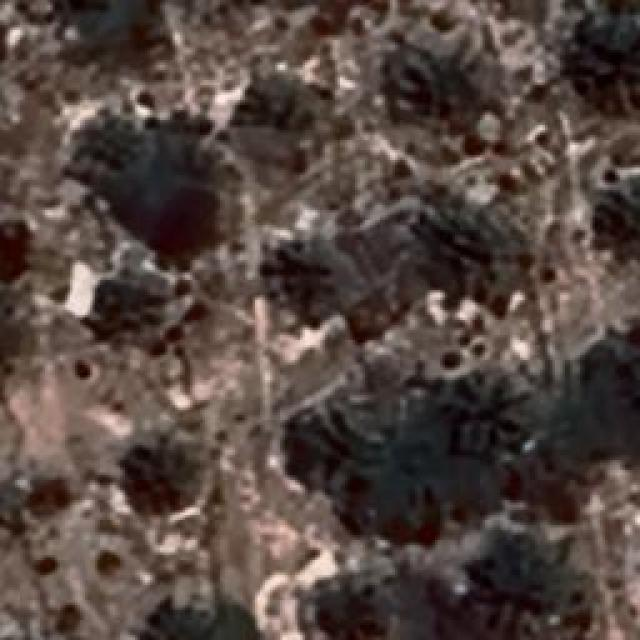PalmTree: (75, 21, 189, 621), (458, 535, 570, 640), (392, 27, 486, 132), (426, 200, 514, 302), (92, 266, 186, 352), (444, 375, 524, 465), (572, 15, 640, 110), (282, 400, 362, 478), (121, 438, 201, 514), (238, 78, 312, 152), (75, 118, 165, 176), (320, 570, 390, 640), (264, 255, 332, 325), (604, 342, 640, 449), (600, 170, 640, 256), (0, 289, 35, 386), (0, 290, 21, 382)
